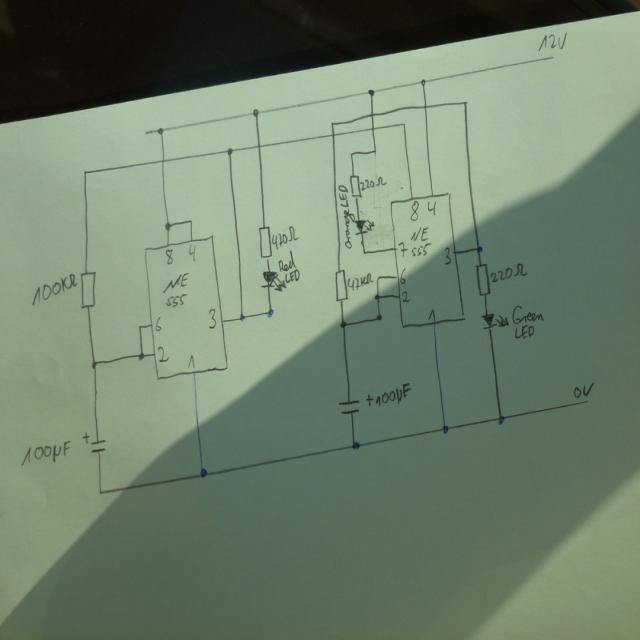capacitor: (338, 393, 373, 415), (82, 430, 106, 453)
crossover: (422, 102, 430, 111), (255, 142, 263, 150), (329, 130, 336, 138), (369, 124, 376, 131), (160, 156, 166, 164), (369, 110, 375, 118)
diode: (260, 270, 286, 292), (480, 312, 509, 331), (354, 218, 374, 235)
junction: (199, 466, 208, 478), (163, 220, 172, 231), (496, 414, 505, 425), (441, 424, 449, 436), (351, 440, 360, 450), (238, 311, 246, 322), (266, 307, 274, 318), (156, 126, 165, 135), (90, 359, 98, 369), (226, 146, 233, 157), (367, 88, 376, 96), (475, 244, 483, 253), (252, 107, 259, 117), (339, 319, 346, 329), (97, 488, 105, 496), (138, 351, 144, 361), (82, 168, 89, 176), (419, 78, 426, 86), (372, 146, 378, 155), (375, 274, 381, 283), (374, 292, 380, 301), (137, 322, 143, 330), (188, 217, 194, 225), (361, 248, 367, 256), (376, 313, 382, 321), (330, 120, 336, 127), (462, 99, 468, 106), (401, 120, 407, 127), (349, 150, 354, 156)
resistor: (80, 270, 96, 308), (475, 262, 490, 297), (258, 224, 272, 259), (334, 268, 348, 302), (348, 172, 362, 200)
terminal: (549, 54, 555, 62), (583, 398, 589, 406)
text: (31, 272, 77, 306), (20, 438, 71, 466), (511, 304, 544, 338), (338, 183, 354, 248), (161, 270, 189, 307), (375, 382, 411, 408), (277, 249, 300, 283), (490, 262, 528, 282), (271, 225, 299, 250), (409, 225, 431, 256), (538, 30, 567, 50), (347, 272, 373, 291), (360, 176, 386, 190), (573, 381, 594, 398), (156, 344, 170, 362), (207, 308, 217, 330), (410, 200, 420, 221), (397, 240, 408, 257), (443, 246, 452, 266), (188, 242, 197, 262), (426, 199, 436, 216), (398, 266, 407, 284), (165, 247, 173, 265), (187, 354, 196, 369), (154, 315, 162, 331), (427, 308, 436, 322), (401, 289, 410, 303)
